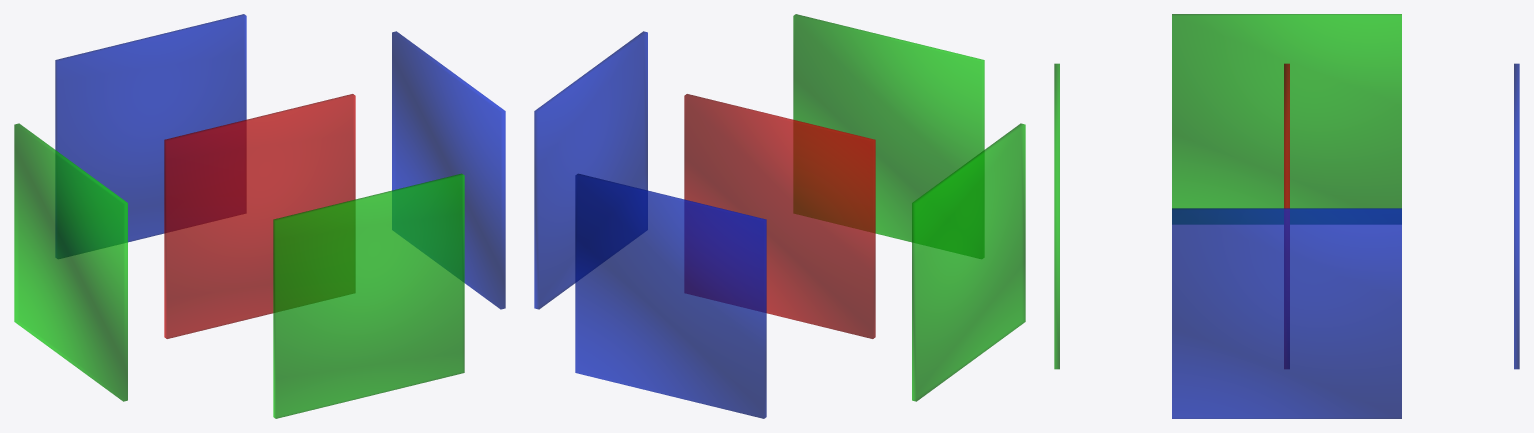
File: translucent.fbx
3 views of the same model, side by side, from view 1: azimuth 30°, elevation 25°; view 2: azimuth 150°, elevation 25°; view 3: azimuth 270°, elevation 25° (orthographic). The views are drawn at different scales.
Parts seen in each view (by area): view 1: Cube.002, Cube, Cube.001, Cube.003, Cube.004; view 2: Cube.001, Cube, Cube.002, Cube.003, Cube.004; view 3: Cube.004, Cube.003, Cube.001, Cube.002, Cube.
Part boxes in pixels (<box>): Cube.002: <box>273,173,464,418</box>; Cube: <box>164,94,355,338</box>; Cube.001: <box>55,14,246,258</box>; Cube.003: <box>14,123,127,401</box>; Cube.004: <box>392,31,505,309</box>; Cube.001: <box>575,173,766,418</box>; Cube: <box>684,94,875,338</box>; Cube.002: <box>793,14,984,258</box>; Cube.003: <box>912,123,1025,401</box>; Cube.004: <box>534,31,647,309</box>; Cube.004: <box>1172,208,1401,418</box>; Cube.003: <box>1172,14,1401,223</box>; Cube.001: <box>1514,63,1519,369</box>; Cube.002: <box>1054,63,1059,369</box>; Cube: <box>1284,63,1289,368</box>.
Bounding box in the file's own units: 4.05 × 2 × 4.05.
